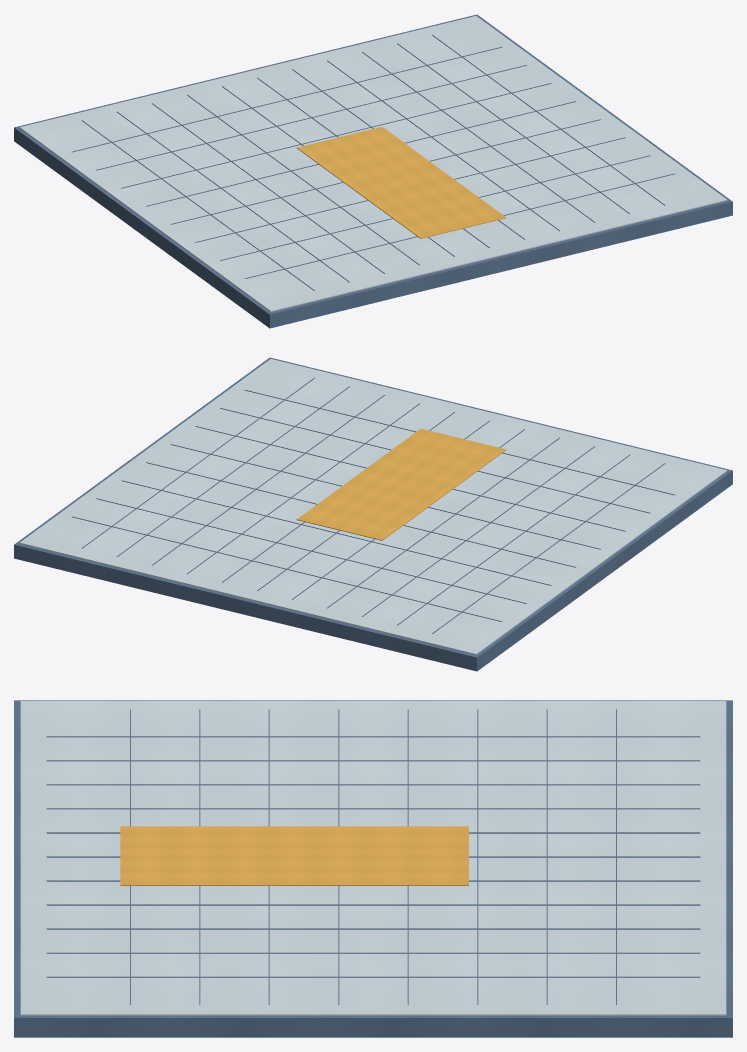
File: atlas100-s051-a07.glb
3 views of the same model, one above another, from view 1: azimuth 30°, elevation 25°; view 2: azimuth 150°, elevation 25°; view 3: azimuth 270°, elevation 25° (orthographic). The views are drawn at different scales.
Parts seen in each view (by area): view 1: atlas100-s051-a07:part-001, atlas100-s051-a07:part-000, atlas100-s051-a07:part-021, atlas100-s051-a07:part-013, atlas100-s051-a07:part-014, atlas100-s051-a07:part-015, atlas100-s051-a07:part-020, atlas100-s051-a07:part-018, atlas100-s051-a07:part-019, atlas100-s051-a07:part-017, atlas100-s051-a07:part-016; view 2: atlas100-s051-a07:part-001, atlas100-s051-a07:part-000, atlas100-s051-a07:part-021, atlas100-s051-a07:part-013, atlas100-s051-a07:part-015, atlas100-s051-a07:part-014, atlas100-s051-a07:part-020, atlas100-s051-a07:part-016, atlas100-s051-a07:part-017, atlas100-s051-a07:part-018, atlas100-s051-a07:part-019; view 3: atlas100-s051-a07:part-001, atlas100-s051-a07:part-000, atlas100-s051-a07:part-021, atlas100-s051-a07:part-010, atlas100-s051-a07:part-009, atlas100-s051-a07:part-012, atlas100-s051-a07:part-002, atlas100-s051-a07:part-003, atlas100-s051-a07:part-004, atlas100-s051-a07:part-005, atlas100-s051-a07:part-011, atlas100-s051-a07:part-006 (+4 smaller).
Part boxes in pixels (box(x1,y1,x2,y2)): atlas100-s051-a07:part-001: box(19, 16, 727, 311); atlas100-s051-a07:part-000: box(14, 14, 732, 328); atlas100-s051-a07:part-021: box(297, 126, 506, 238); atlas100-s051-a07:part-013: box(72, 47, 502, 152); atlas100-s051-a07:part-014: box(96, 65, 526, 170); atlas100-s051-a07:part-015: box(121, 83, 551, 188); atlas100-s051-a07:part-020: box(244, 173, 674, 278); atlas100-s051-a07:part-018: box(195, 137, 625, 242); atlas100-s051-a07:part-019: box(220, 155, 650, 260); atlas100-s051-a07:part-017: box(170, 119, 600, 224); atlas100-s051-a07:part-016: box(146, 101, 576, 206); atlas100-s051-a07:part-001: box(19, 359, 727, 654); atlas100-s051-a07:part-000: box(14, 357, 732, 671); atlas100-s051-a07:part-021: box(296, 428, 506, 540); atlas100-s051-a07:part-013: box(72, 516, 502, 621); atlas100-s051-a07:part-015: box(121, 480, 551, 585); atlas100-s051-a07:part-014: box(96, 498, 526, 603); atlas100-s051-a07:part-020: box(244, 390, 674, 495); atlas100-s051-a07:part-016: box(146, 462, 576, 567); atlas100-s051-a07:part-017: box(170, 444, 600, 549); atlas100-s051-a07:part-018: box(195, 426, 625, 531); atlas100-s051-a07:part-019: box(220, 408, 650, 513); atlas100-s051-a07:part-001: box(20, 701, 726, 1015); atlas100-s051-a07:part-000: box(14, 700, 732, 1037); atlas100-s051-a07:part-021: box(120, 826, 468, 885); atlas100-s051-a07:part-010: box(46, 928, 700, 929); atlas100-s051-a07:part-009: box(46, 904, 700, 905); atlas100-s051-a07:part-012: box(46, 976, 700, 977); atlas100-s051-a07:part-002: box(46, 736, 700, 737); atlas100-s051-a07:part-003: box(46, 760, 700, 761); atlas100-s051-a07:part-004: box(46, 784, 700, 785); atlas100-s051-a07:part-005: box(46, 808, 700, 809); atlas100-s051-a07:part-011: box(46, 952, 700, 953); atlas100-s051-a07:part-006: box(46, 832, 700, 833).
Size of the model in its own units: 11.9 by 0.404 by 11.39.
3 materials, 3 textured.
